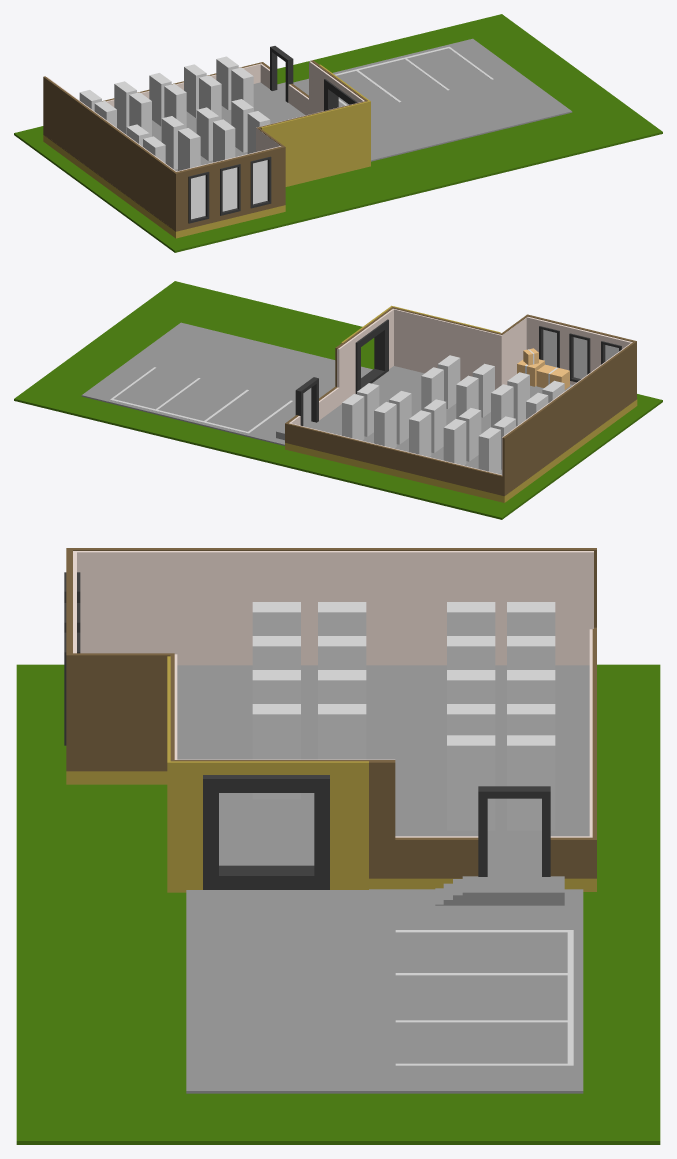
File: warehouse.glb
The picture shows the model from 3 angles, top to bottom: view 1: azimuth 30°, elevation 25°; view 2: azimuth 150°, elevation 25°; view 3: azimuth 270°, elevation 25°; orthographic projection. The views are drawn at different scales.
Parts seen in each view (by area): view 1: Cube.034, Cube.035, Cube.010, Cube.023, Cube.022, Cube.008, Plane, Cube.009, Cube.015, Cube.016, Cube.011, Cube.012 (+18 smaller); view 2: Cube.034, Cube.035, Cube.010, Cube.022, Cube.008, Cube.009, Cube.014, Plane, Cube.003, Cube.001, Cube.007, Cube.019 (+16 smaller); view 3: Cube.034, Cube.035, Cube.022, Cube.008, Cube.010, Cube.023, Cube.014, Cube.006, Cube.007, Cube.021, Cube.036, Cube.009 (+16 smaller).
Part boxes in pixels (box(x1,y1,x2,y2)): Cube.034: box(14, 14, 662, 252); Cube.035: box(293, 38, 572, 161); Cube.010: box(43, 60, 367, 231); Cube.023: box(261, 64, 370, 186); Cube.022: box(47, 61, 364, 171); Cube.008: box(152, 82, 305, 171); Plane: box(191, 160, 267, 219); Cube.009: box(43, 135, 285, 238); Cube.015: box(213, 119, 235, 162); Cube.016: box(178, 128, 200, 170); Cube.011: box(196, 107, 218, 161); Cube.012: box(161, 116, 184, 169); Cube.034: box(14, 281, 662, 519); Cube.035: box(81, 322, 372, 445); Cube.010: box(285, 307, 636, 496); Cube.022: box(289, 308, 632, 475); Cube.008: box(276, 366, 572, 474); Cube.009: box(285, 399, 637, 502); Cube.014: box(355, 319, 388, 393); Plane: box(543, 329, 618, 378); Cube.003: box(443, 419, 466, 465); Cube.001: box(409, 410, 431, 456); Cube.007: box(342, 394, 364, 440); Cube.019: box(374, 402, 396, 448); Cube.034: box(16, 664, 660, 1144); Cube.035: box(186, 889, 583, 1093); Cube.022: box(73, 551, 593, 837); Cube.008: box(177, 665, 589, 905); Cube.010: box(66, 548, 596, 878); Cube.023: box(167, 656, 368, 892); Cube.014: box(203, 775, 329, 889); Cube.006: box(447, 735, 495, 830); Cube.007: box(507, 735, 555, 830); Cube.021: box(252, 704, 300, 799); Cube.036: box(395, 930, 573, 1065); Cube.009: box(66, 771, 596, 891).
Size of the model in its own units: 140 by 18.35 by 80.
